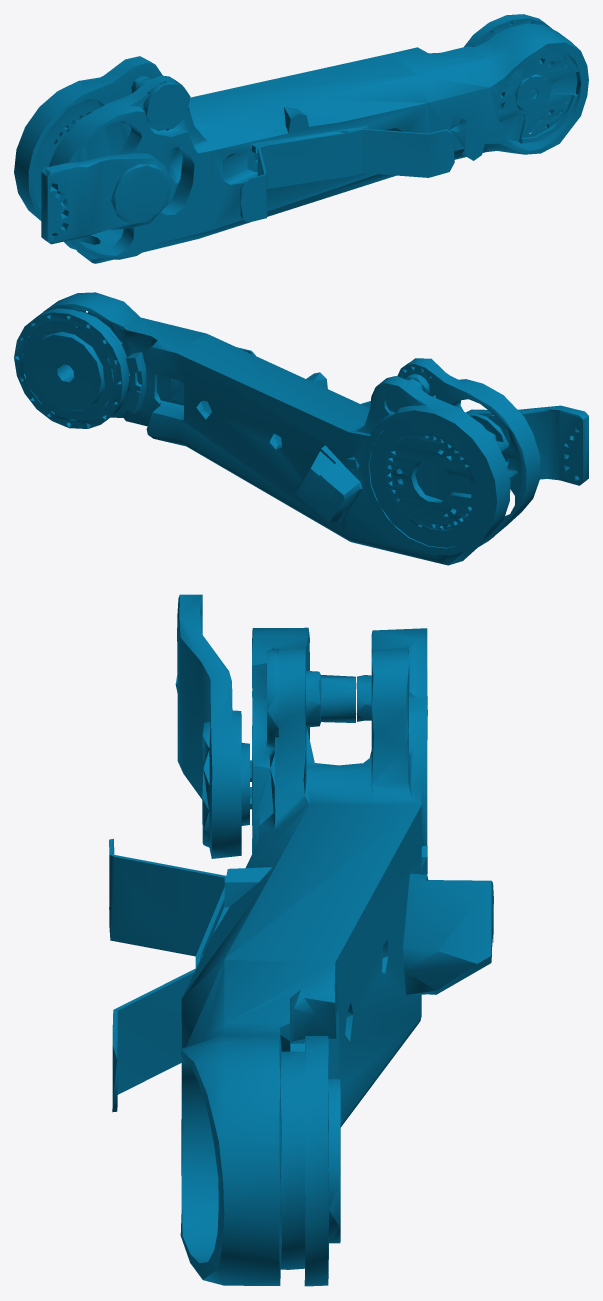
3 views of the same model, one above another, from view 1: azimuth 30°, elevation 25°; view 2: azimuth 150°, elevation 25°; view 3: azimuth 270°, elevation 25° (orthographic). The views are drawn at different scales.
Visible parts, largest first — view 1: es165rd-a00_lk2; view 2: es165rd-a00_lk2; view 3: es165rd-a00_lk2.
Boxes of the visible parts, box(x1,y1,x2,y2) form: es165rd-a00_lk2: box(14, 14, 588, 263); es165rd-a00_lk2: box(14, 292, 588, 565); es165rd-a00_lk2: box(109, 594, 493, 1286).
Bounding box in the file's own units: 1.6 × 0.4969 × 0.4797.
